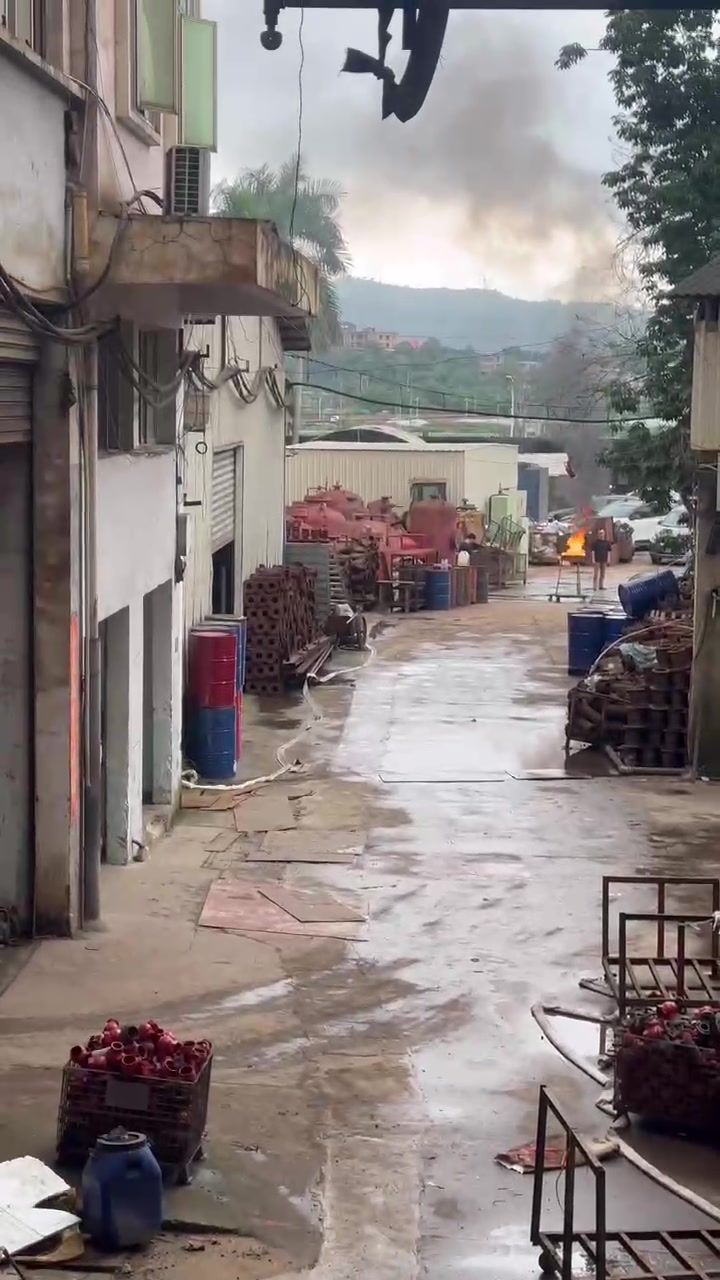fire: (560, 532, 584, 555)
